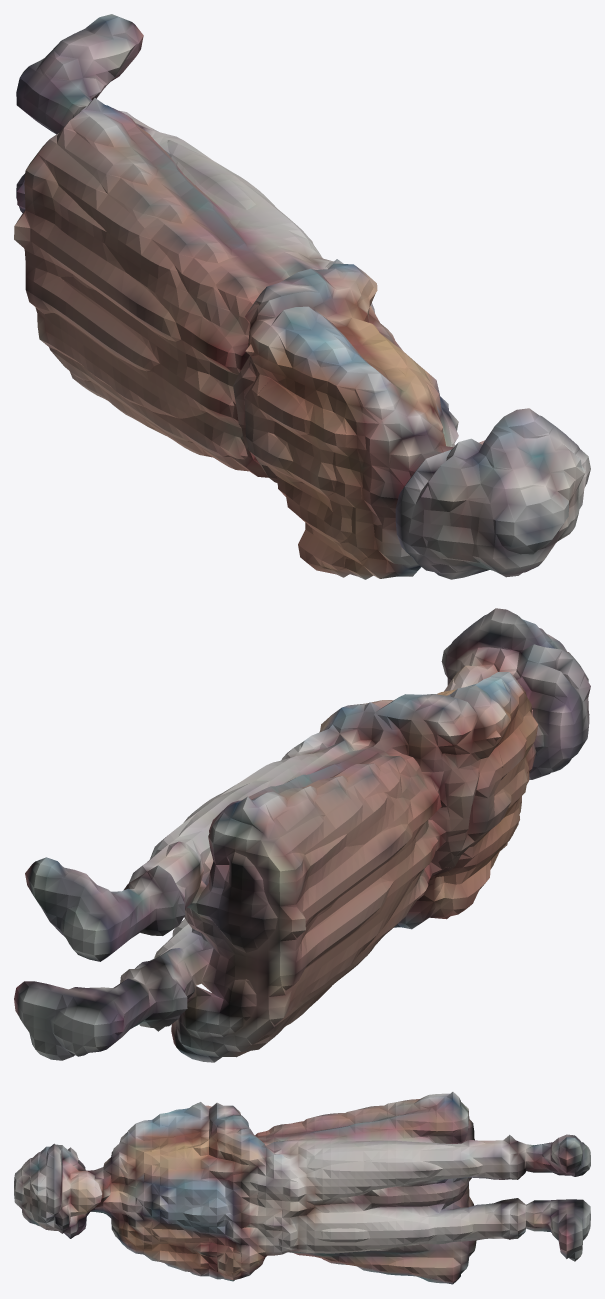
Rendered from modern_commoner_f_0.glb.
The picture shows the model from 3 angles, top to bottom: view 1: azimuth 30°, elevation 25°; view 2: azimuth 150°, elevation 25°; view 3: azimuth 270°, elevation 25°; orthographic projection. The views are drawn at different scales.
Visible parts, largest first — view 1: world; view 2: world; view 3: world.
Boxes of the visible parts, <box> form: world: <box>14,14,590,579</box>; world: <box>14,608,590,1062</box>; world: <box>14,1092,590,1284</box>.
Size of the model in its own units: 0.2565 by 0.3251 by 0.9719.
